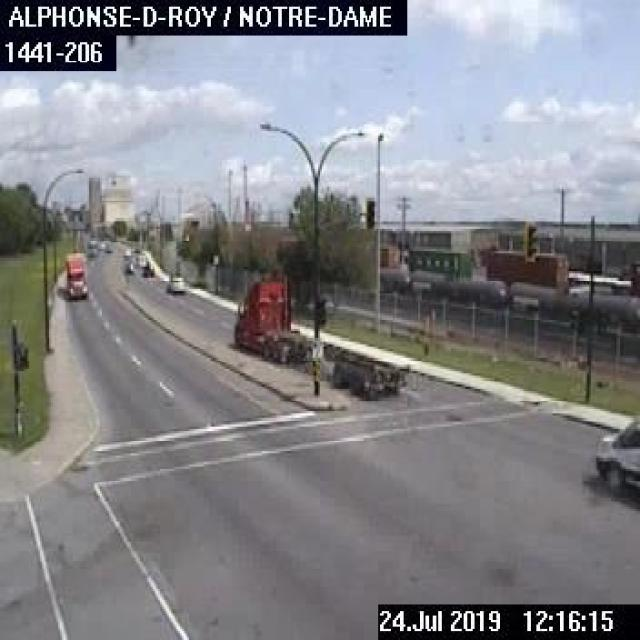vehicle: (229, 274, 407, 398), (591, 407, 638, 493), (62, 253, 88, 298), (163, 269, 186, 292), (140, 258, 155, 278), (121, 257, 135, 274), (85, 236, 97, 254)
